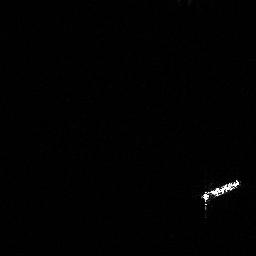ship: (197, 176, 244, 213)
